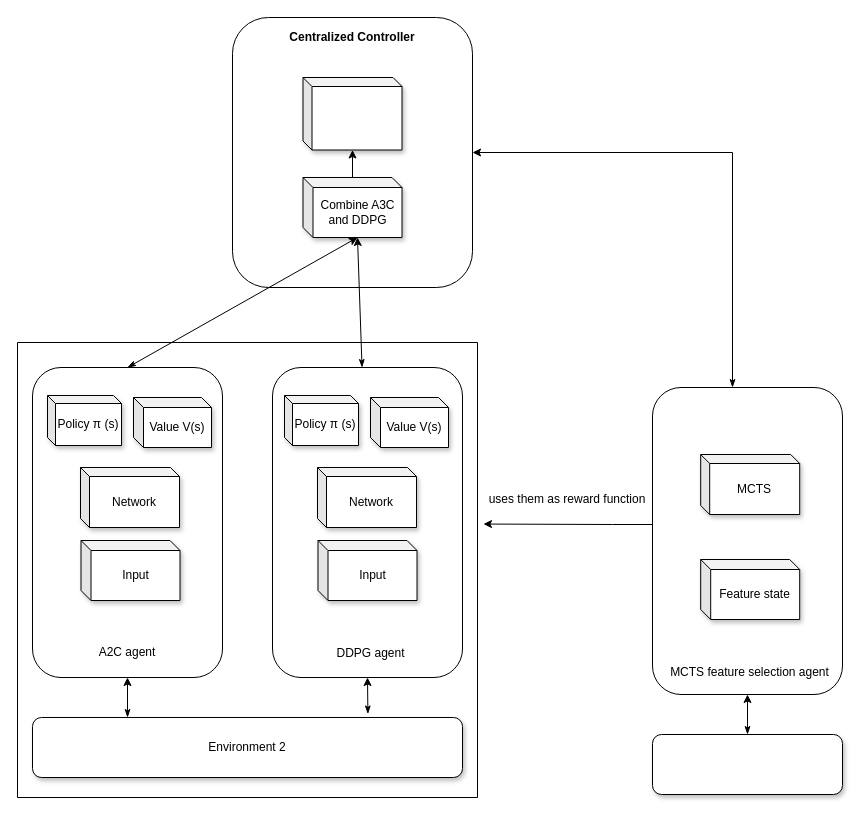
Some shapes in this 866 by 819 pixel diagram are drawn without their labels. The centre of each missing label's shape, as x and y in pixels:
Environment 1: point (748, 766)
Run agents: point (353, 114)
